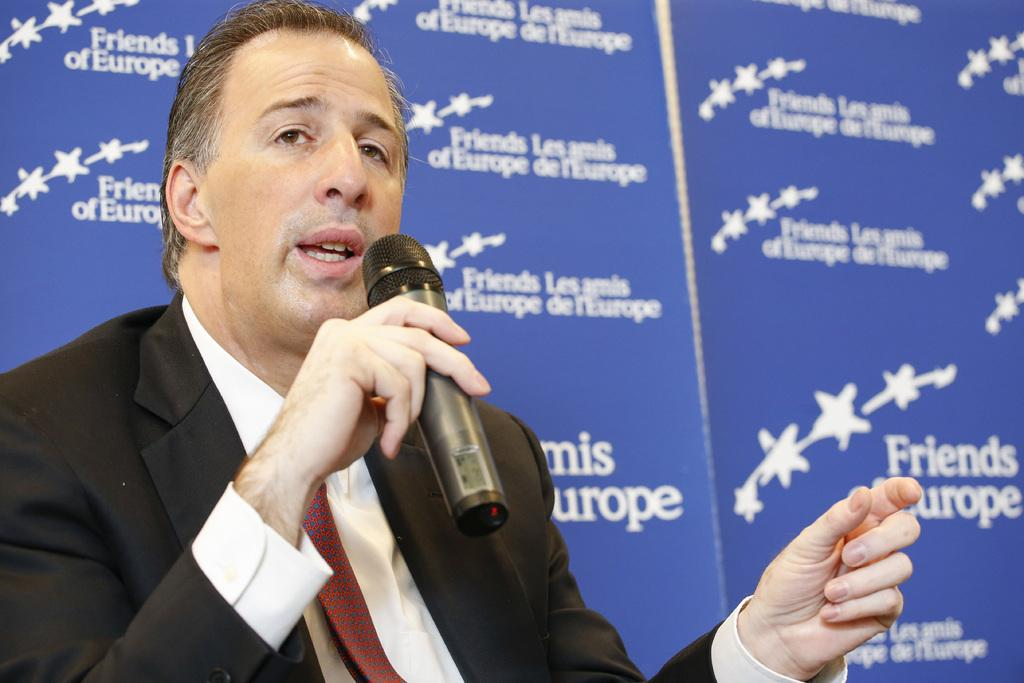no_helmet: (168, 115, 436, 172)
none: (44, 330, 587, 572)
